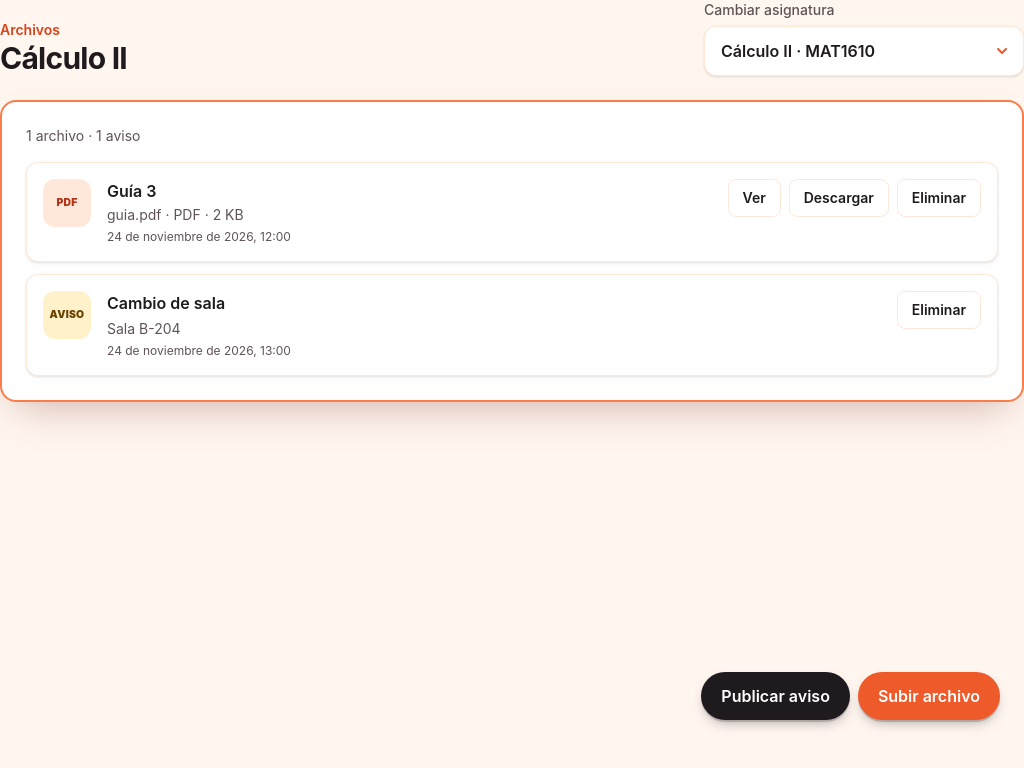
Archivos del tutor › elimina con confirmación
The width and height of the screenshot is (1024, 768).
Expected: the text "Sala B-204" is shown, [107, 320, 181, 337]
Click the button "Eliminar" in the row of "Cambio de sala" at (939, 310), box [897, 291, 981, 329]
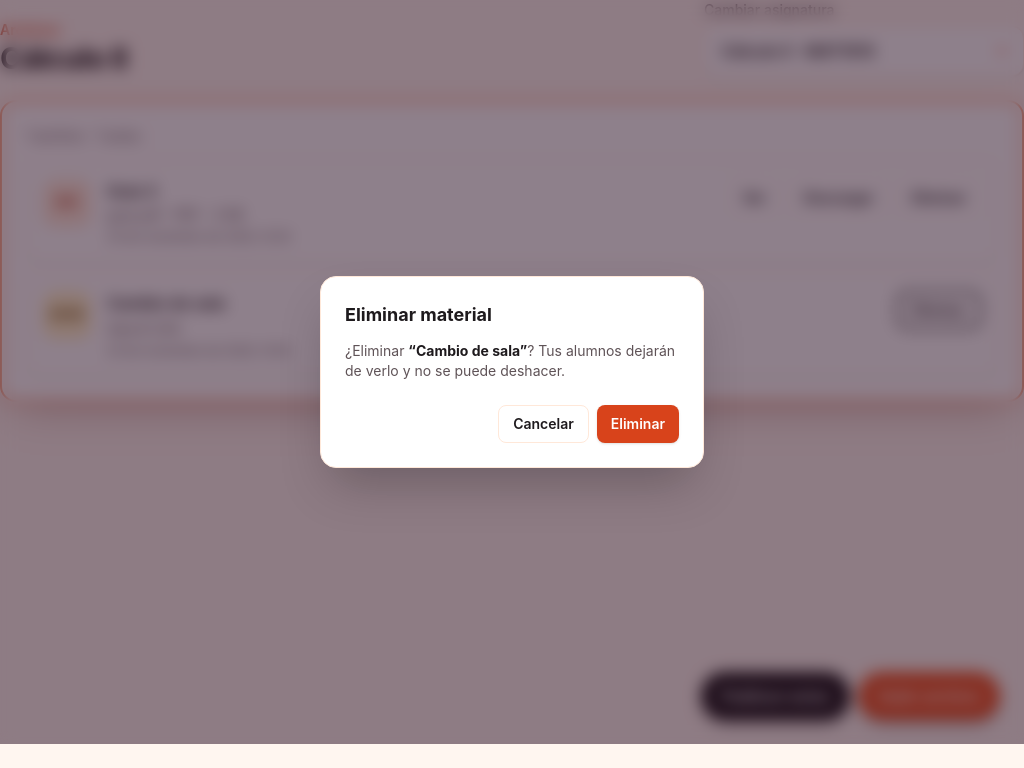
Expected: the dialog "Eliminar material" shows "no se puede deshacer", [345, 342, 675, 379]
Click the button "Eliminar" at (638, 424), box [597, 405, 679, 443]
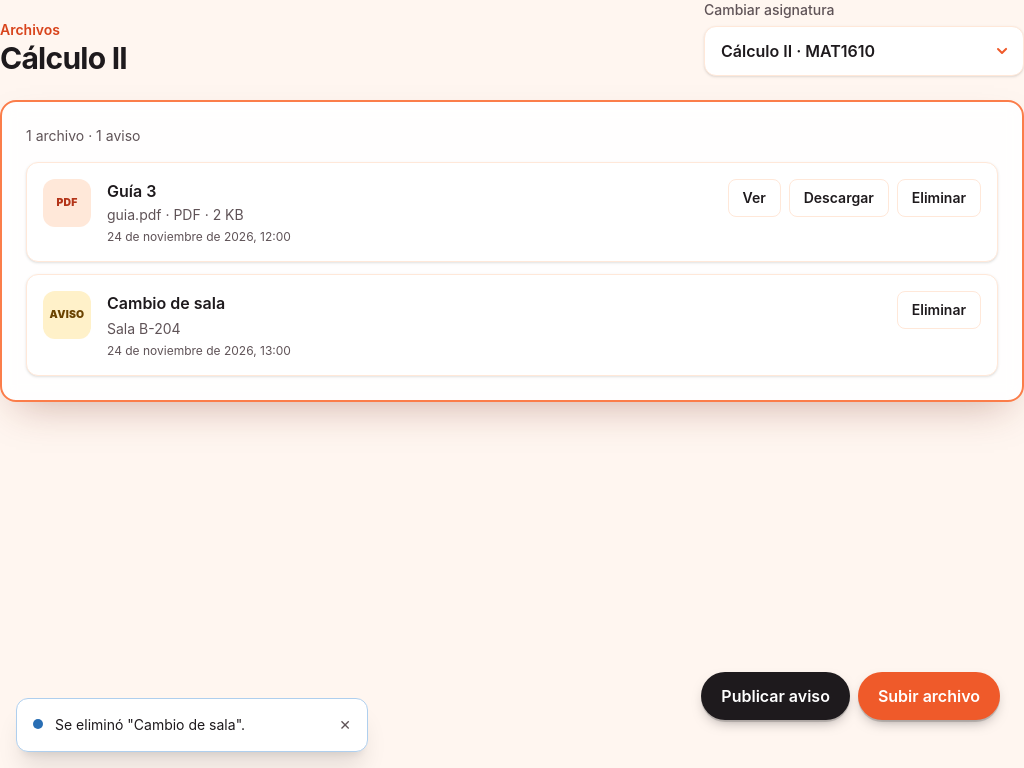
Expected: the text "Se eliminó \"Cambio de sala\"." is shown, [55, 716, 245, 733]
